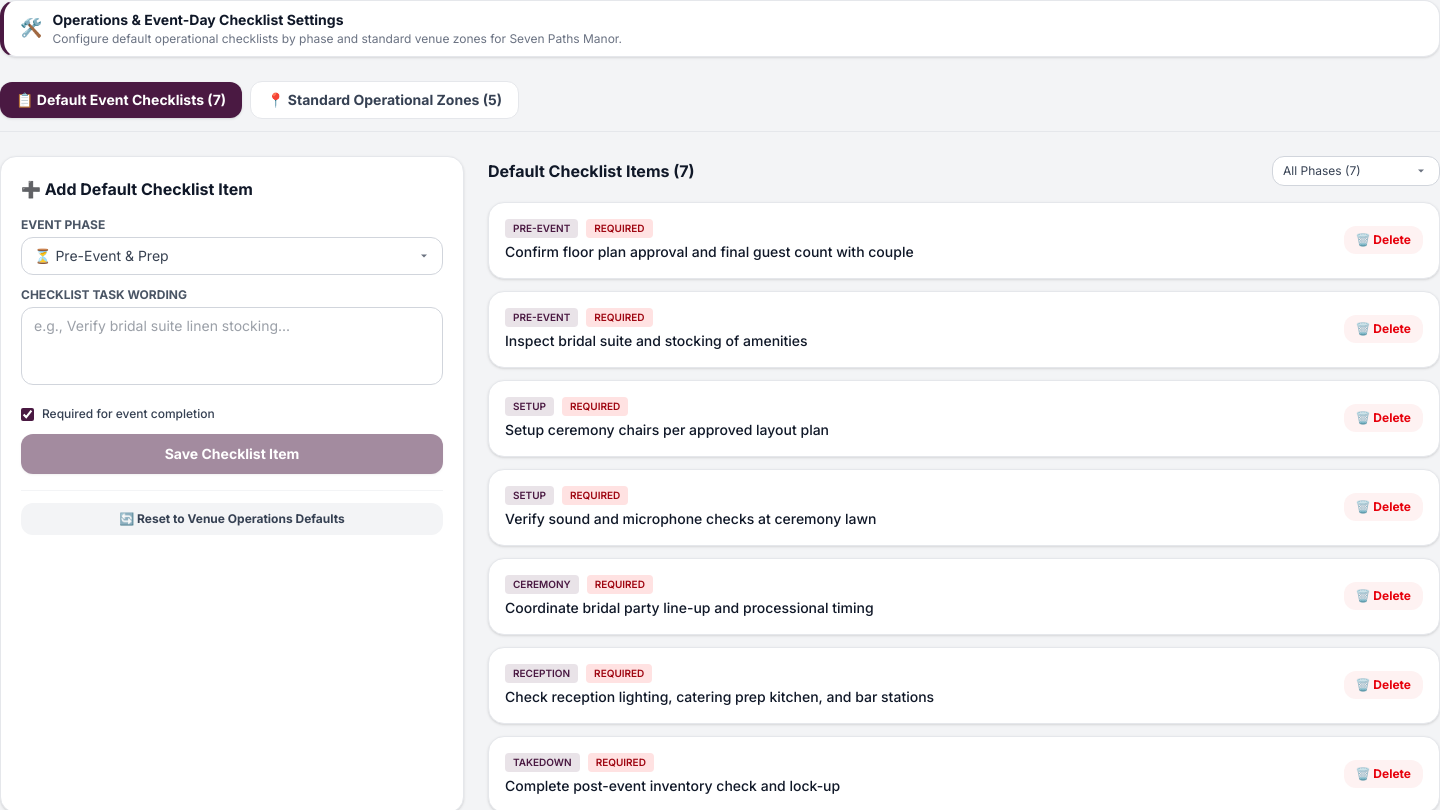
it: OperationsSettingsManagement (#147) › switches to operational zones tab and allows adding a new zone
The image size is (1440, 810).
Click the button "📍 Standard Operational Zones (5)": (385, 100) [250,80,519,118]
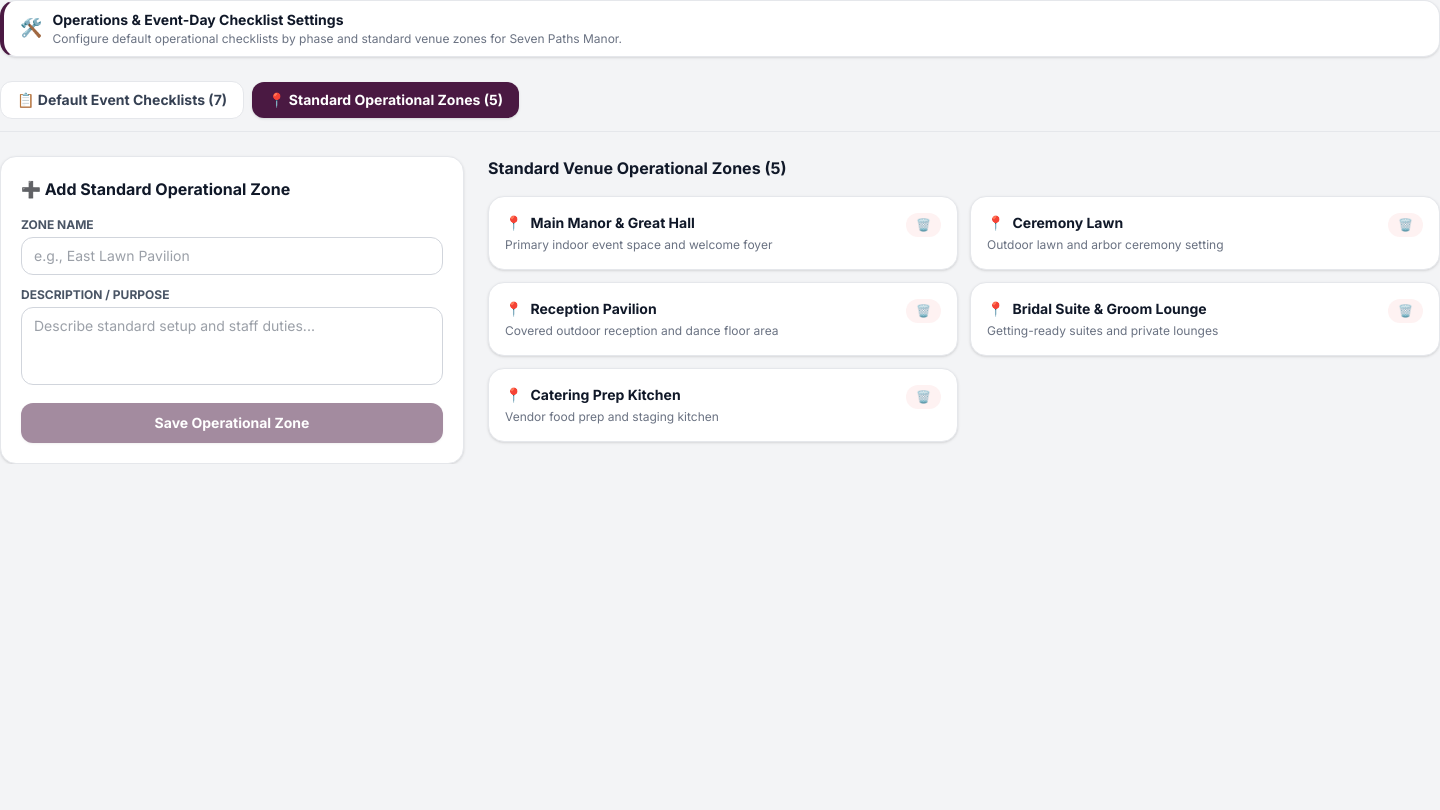
Now the heading "📍 Main Manor & Great Hall" is shown, box [505,214,695,230]
In the field with placeholder "e.g., East Lawn Pavilion": (232, 256) [21,236,443,274], type "Lakeside Patio"
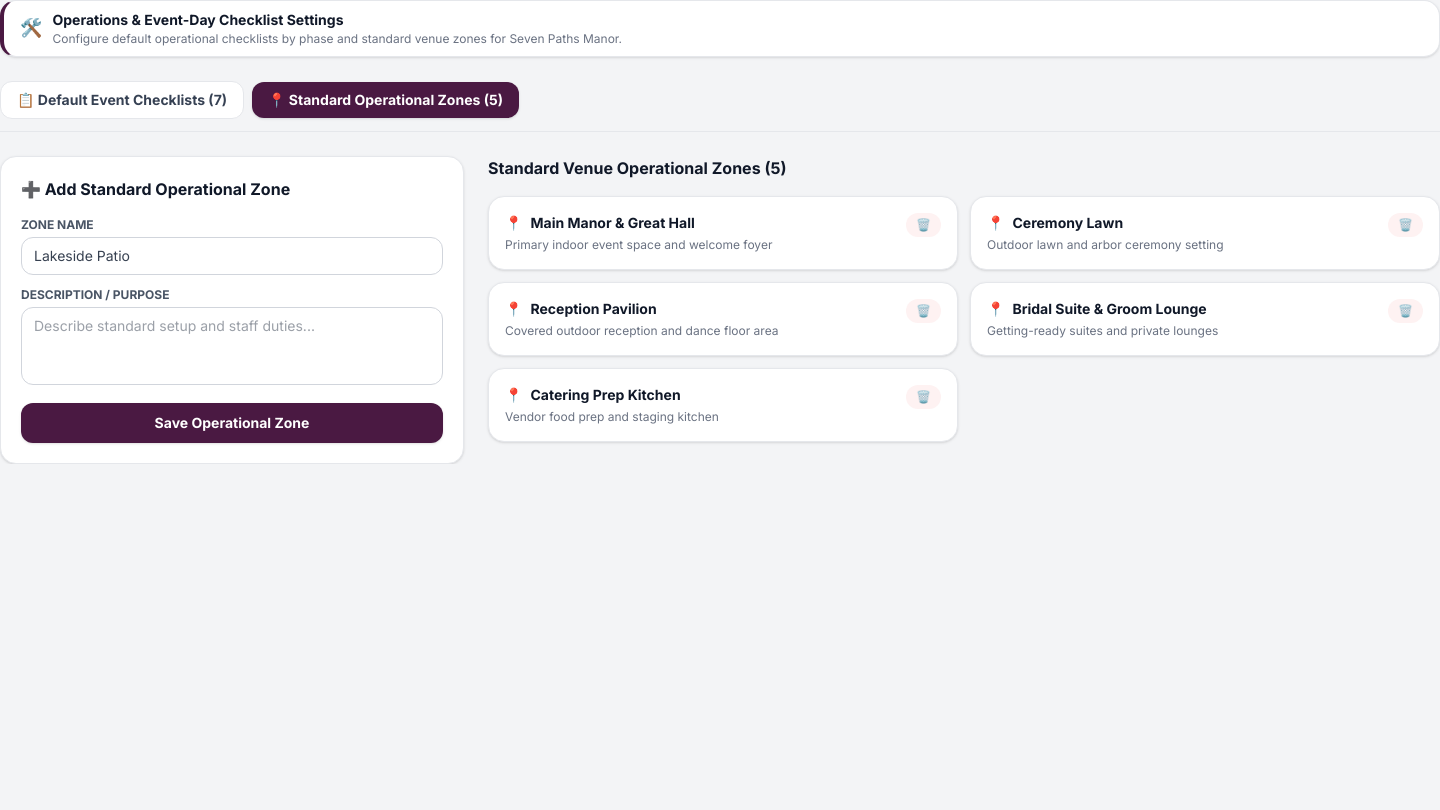
In the text box with placeholder "Describe standard setup and staff duties...": (232, 346) [21,306,443,384], type "Cocktail hour tables & bar"
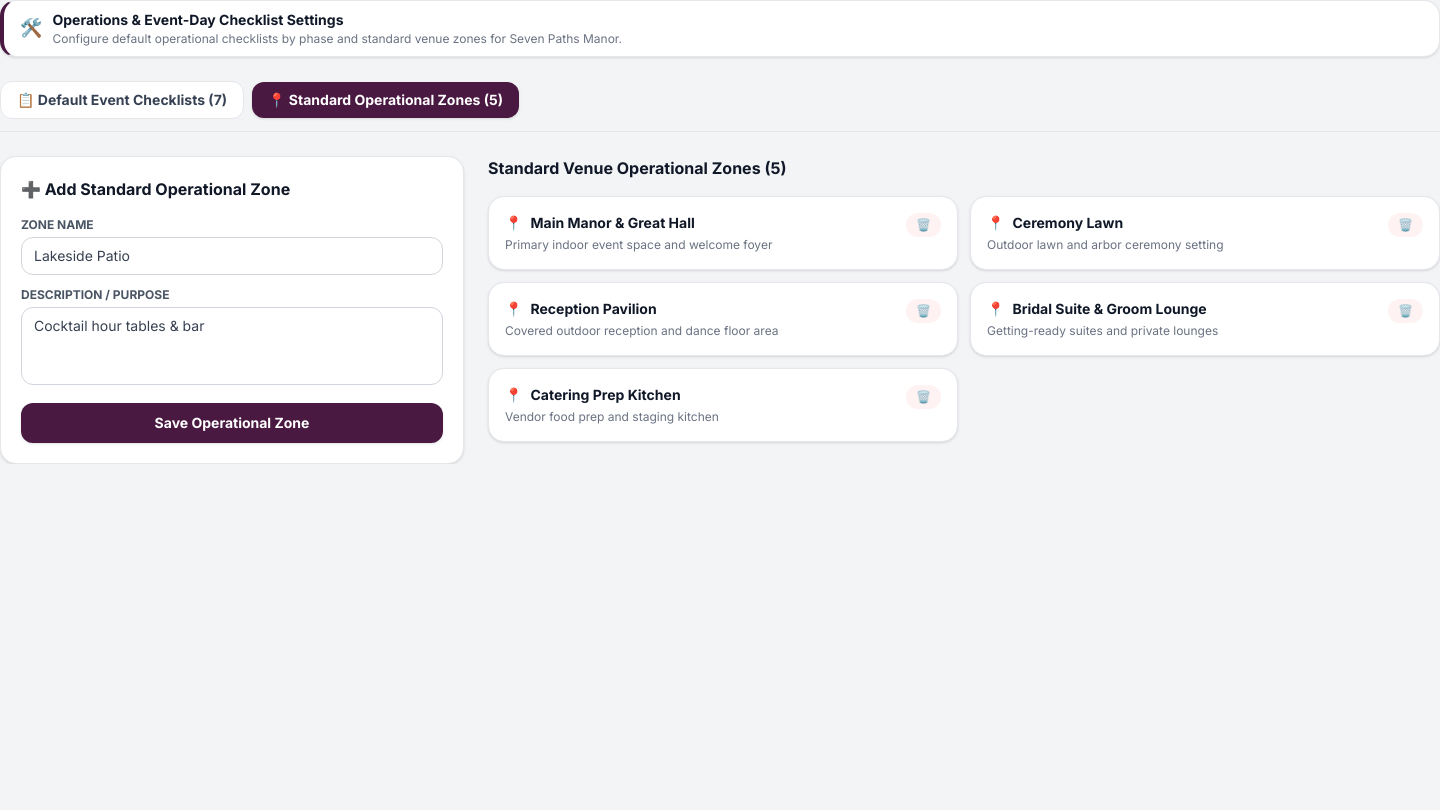
Click the button "Save Operational Zone": (232, 422) [21,402,443,442]
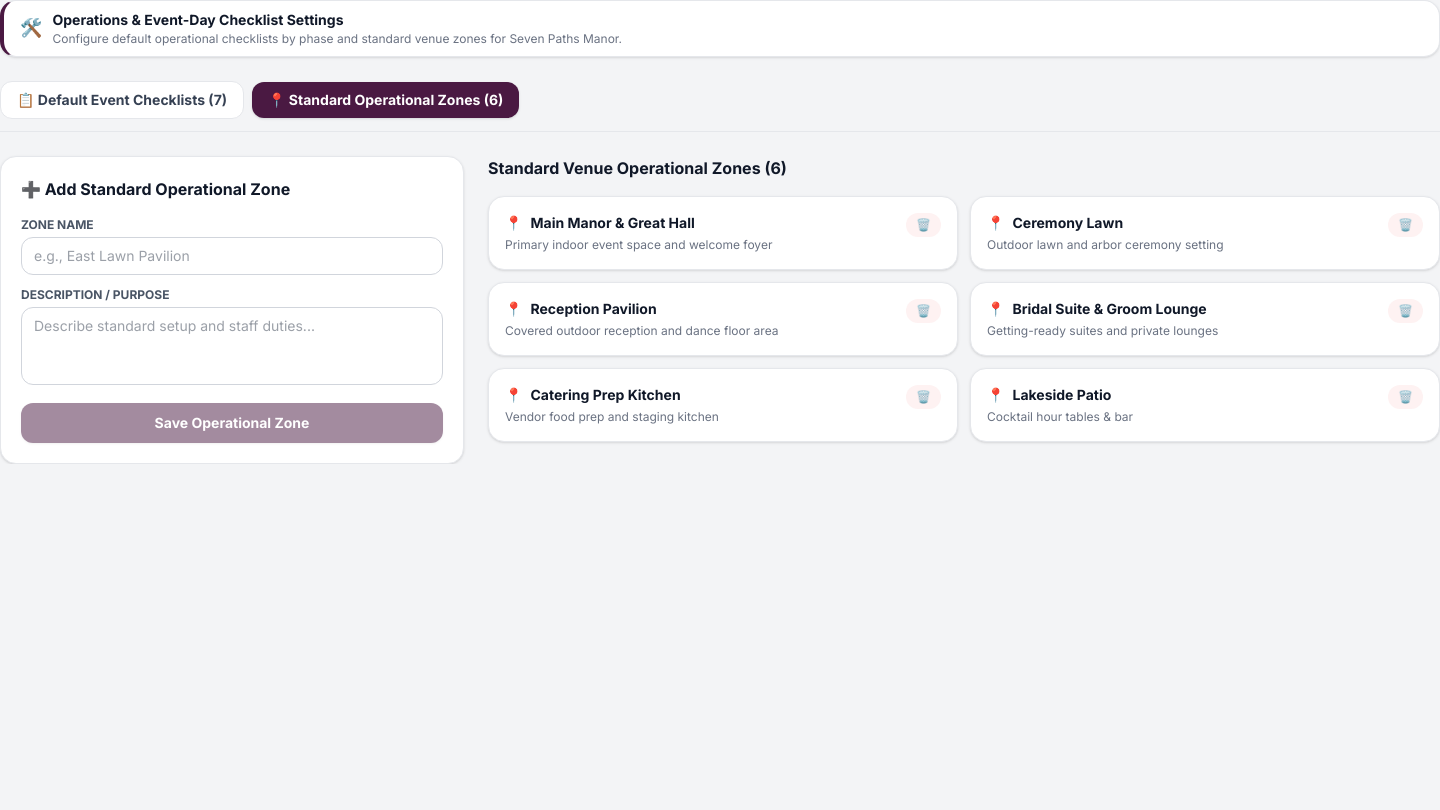
Now the heading "📍 Lakeside Patio" is shown, box [987,384,1133,404]
Now the text "Cocktail hour tables & bar" is shown, box [987,408,1133,424]
